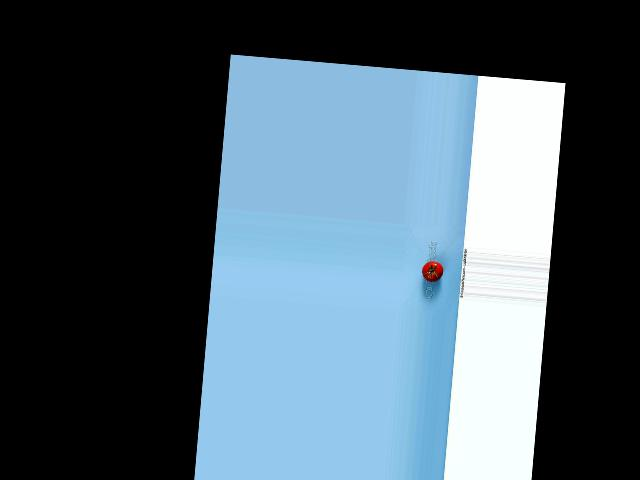tomato: (421, 260, 444, 282)
